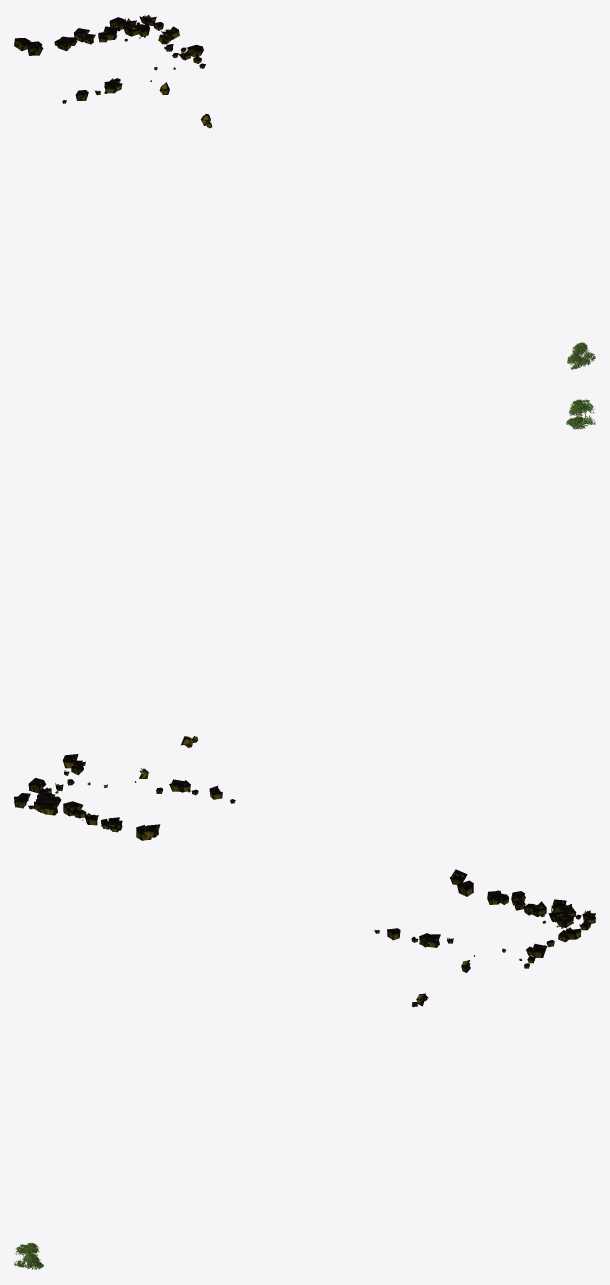
3 renders of one model, top to bottom at view 1: azimuth 30°, elevation 25°; view 2: azimuth 150°, elevation 25°; view 3: azimuth 330°, elevation 25°, orthographic. The views are drawn at different scales.
Visible parts, largest first — view 1: Low Poly Stylized 2D Grass.1939, oak 01.001_trunk_Mat.001_0.505; view 2: Low Poly Stylized 2D Grass.1939, oak 01.001_trunk_Mat.001_0.505; view 3: Low Poly Stylized 2D Grass.1939, oak 01.001_trunk_Mat.001_0.505.
Boxes of the visible parts, box(x1,y1,x2,y2) form: Low Poly Stylized 2D Grass.1939: box(14, 15, 205, 103); oak 01.001_trunk_Mat.001_0.505: box(567, 342, 595, 369); Low Poly Stylized 2D Grass.1939: box(14, 754, 235, 840); oak 01.001_trunk_Mat.001_0.505: box(566, 398, 595, 429); Low Poly Stylized 2D Grass.1939: box(374, 869, 595, 972); oak 01.001_trunk_Mat.001_0.505: box(14, 1243, 43, 1269).
Bounding box in the file's own units: 21.97 × 7 × 121.
3 materials, 2 textured.
